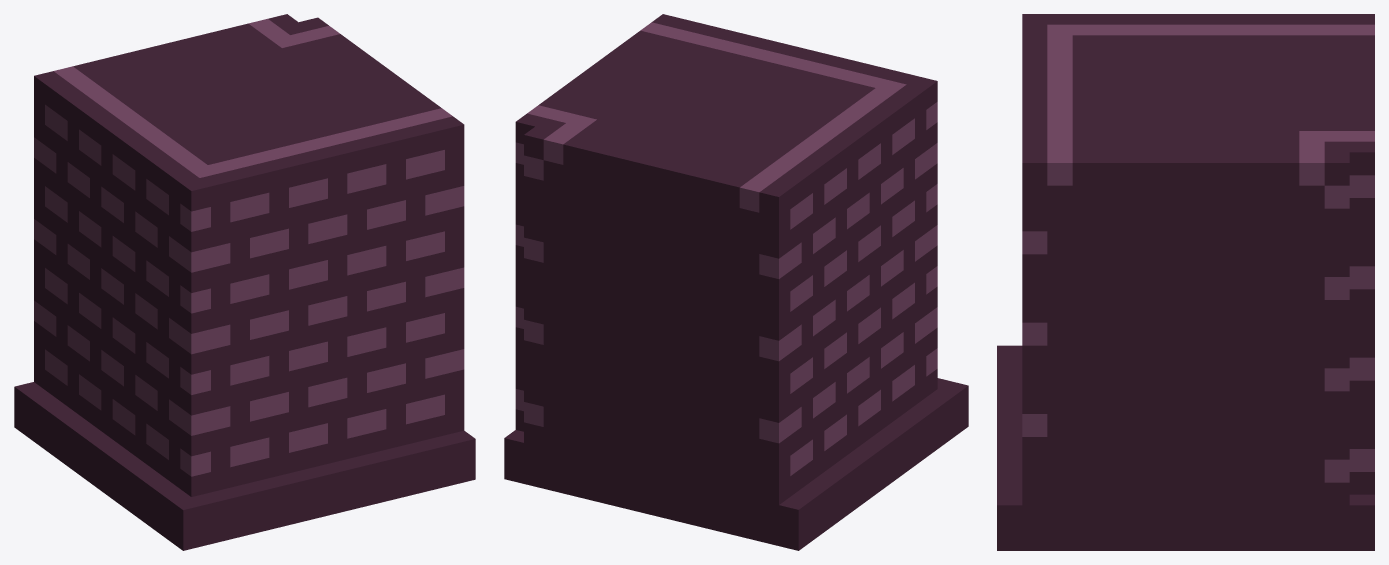
File: dungeon_c_a_inner_wall_corner_a.obj
3 renders of one model, left to right at view 1: azimuth 30°, elevation 25°; view 2: azimuth 150°, elevation 25°; view 3: azimuth 270°, elevation 25°, orthographic. The views are drawn at different scales.
Size of the model in its own units: 1.5 by 1.7 by 1.5.
1 material, 1 textured.
